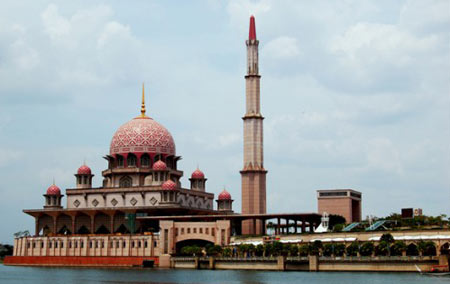Mosque: (34, 12, 270, 259)
